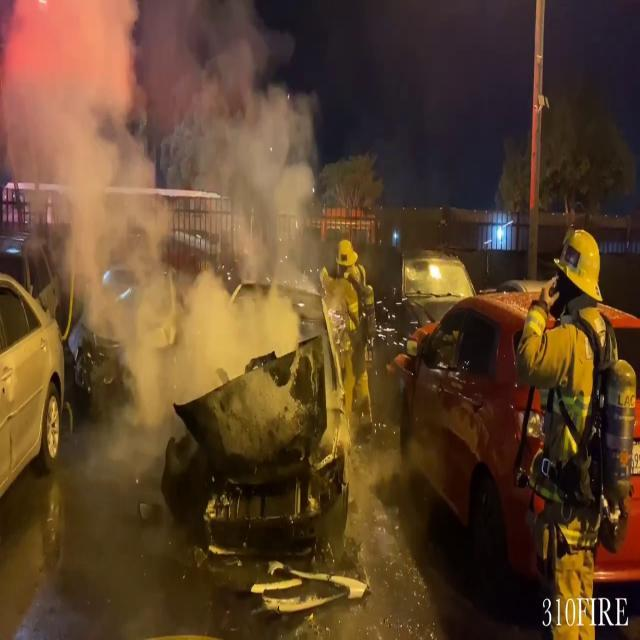Smoke: (0, 0, 338, 410)
